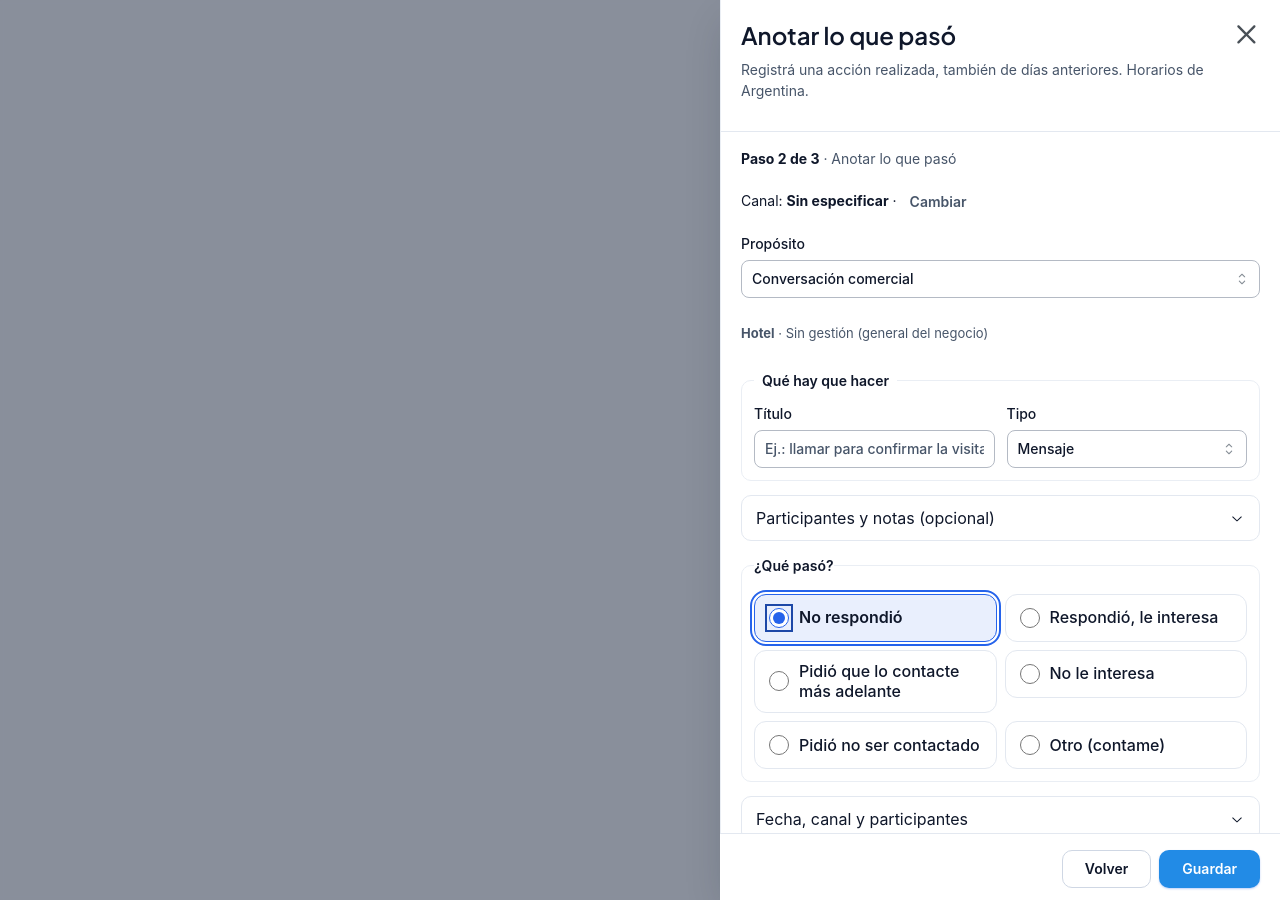
Test: the only active person comes preselected (spec 104 D3) › after a send without a person (the caller passes the send person) nobody is added
Click the button "Participantes y notas (opcional)" at (875,518), box [742,496,1259,540]
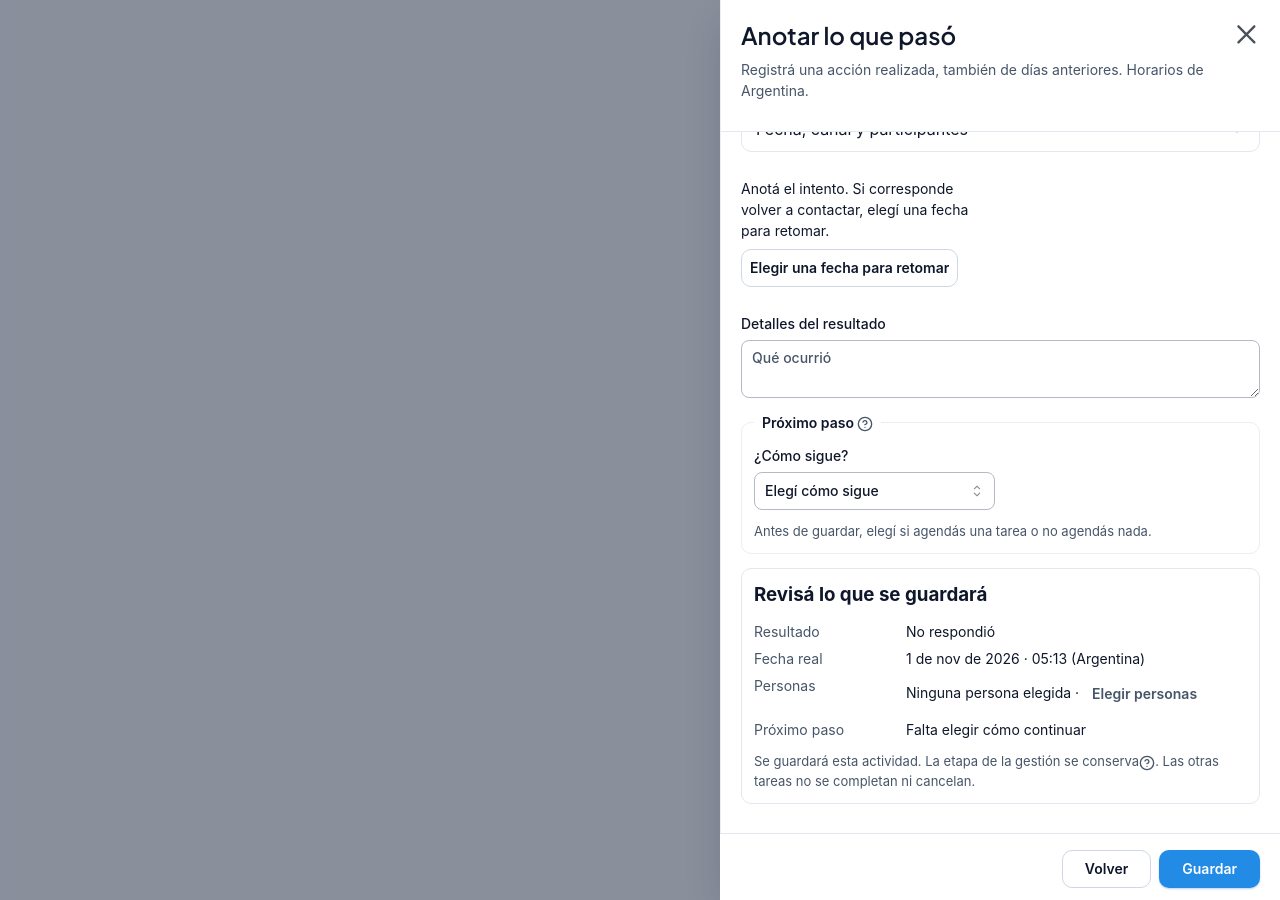
Now the text "Ninguna persona elegida" is shown, box [906,684,1071,701]
